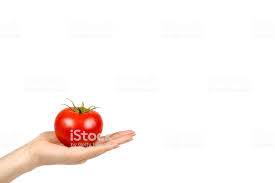tomato: (54, 106, 102, 146)
